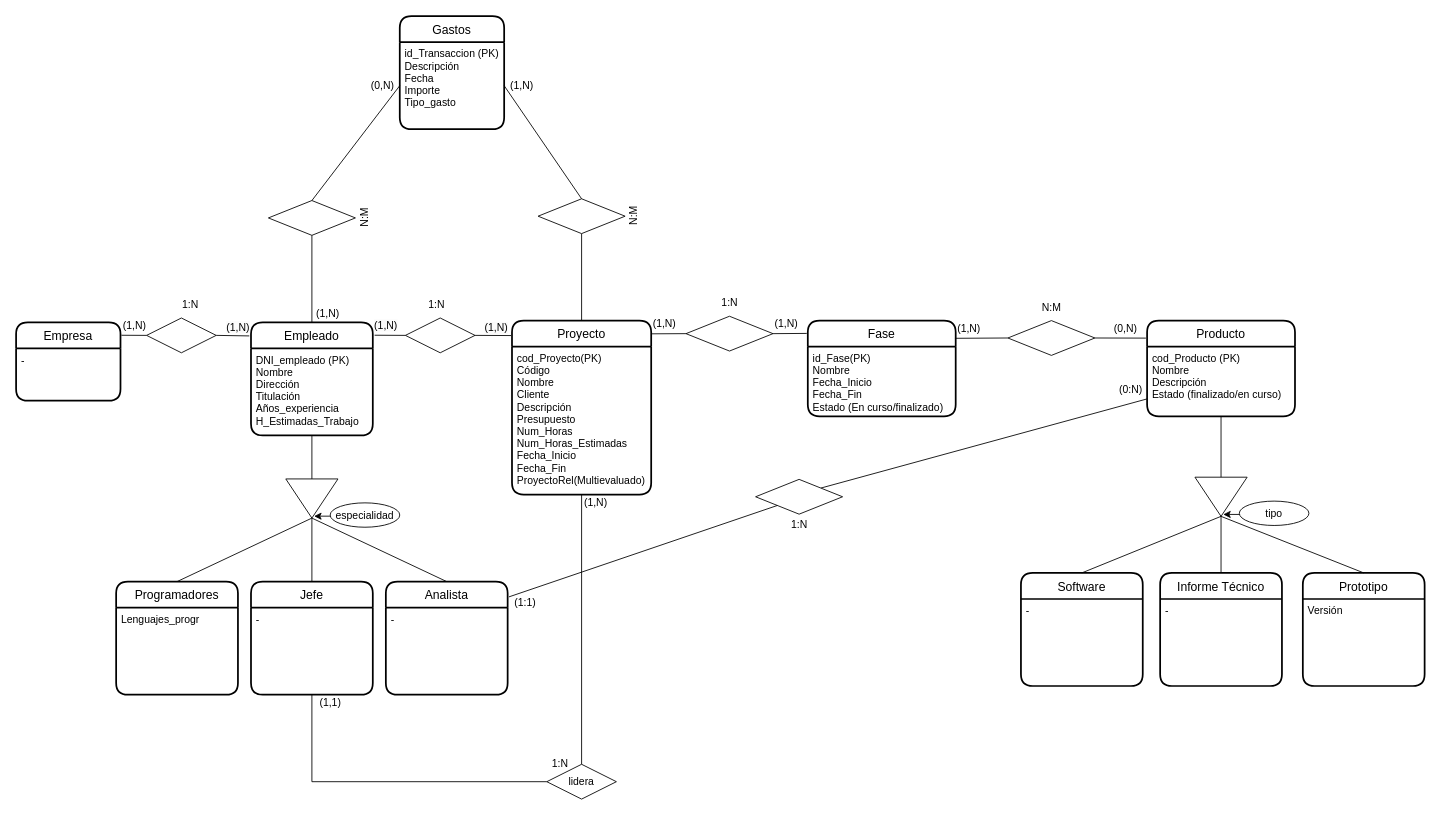
This 1440x814 diagram has some shape labels left out. The shapes that lost their labels are listed below. From the top down, each one's centre as x and y in pixels, then its label:
the point at 311,217: ocasiona
the point at 581,216: repercute
the point at 181,335: paga
the point at 440,335: desarrolla
the point at 729,333: gestiondo en
the point at 1051,337: genera
the point at 799,496: responsable
